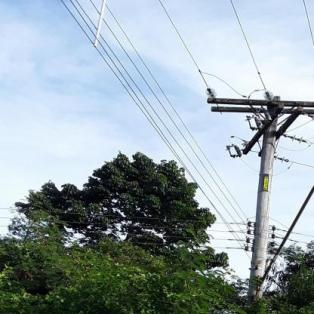Poste: (246, 92, 286, 300)
